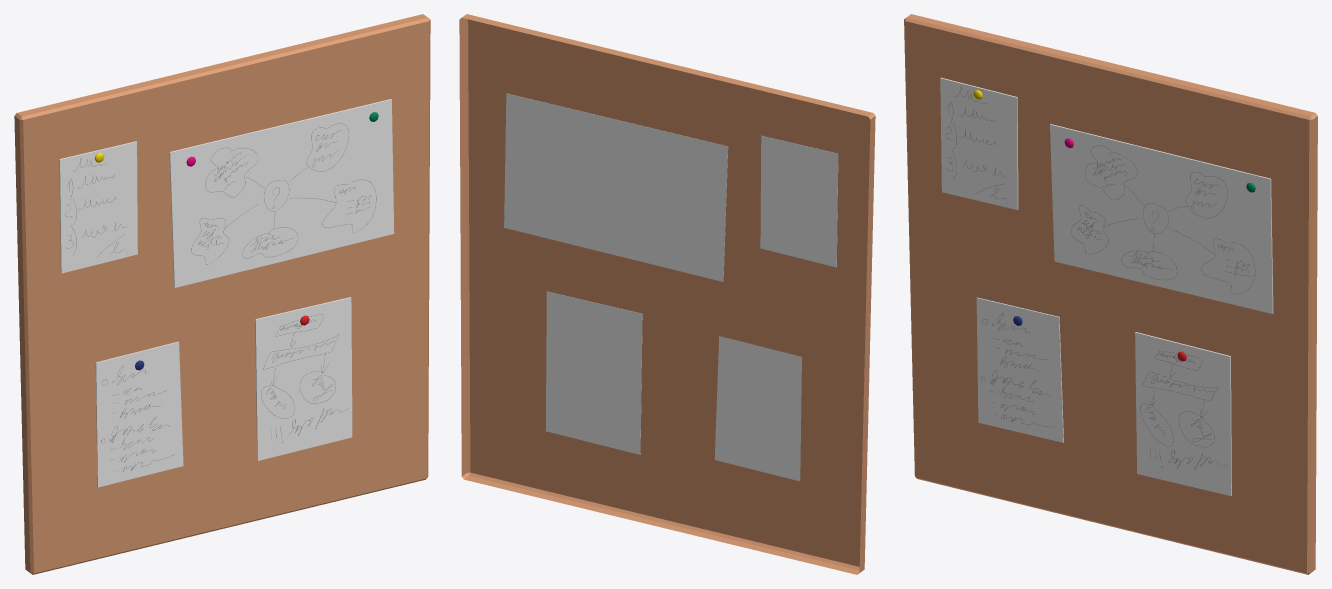
The model's file is Board.fbx.
3 views of the same model, side by side, from view 1: azimuth 30°, elevation 25°; view 2: azimuth 150°, elevation 25°; view 3: azimuth 330°, elevation 25° (orthographic).
Parts seen in each view (by area): view 1: Board; view 2: Board; view 3: Board.
Part boxes in pixels (x1,y1,x2,y2): Board: (14,14,430,574); Board: (459,14,875,574); Board: (904,14,1317,574).
Bounding box in the file's own units: 1.09 × 1.16 × 0.0407.
